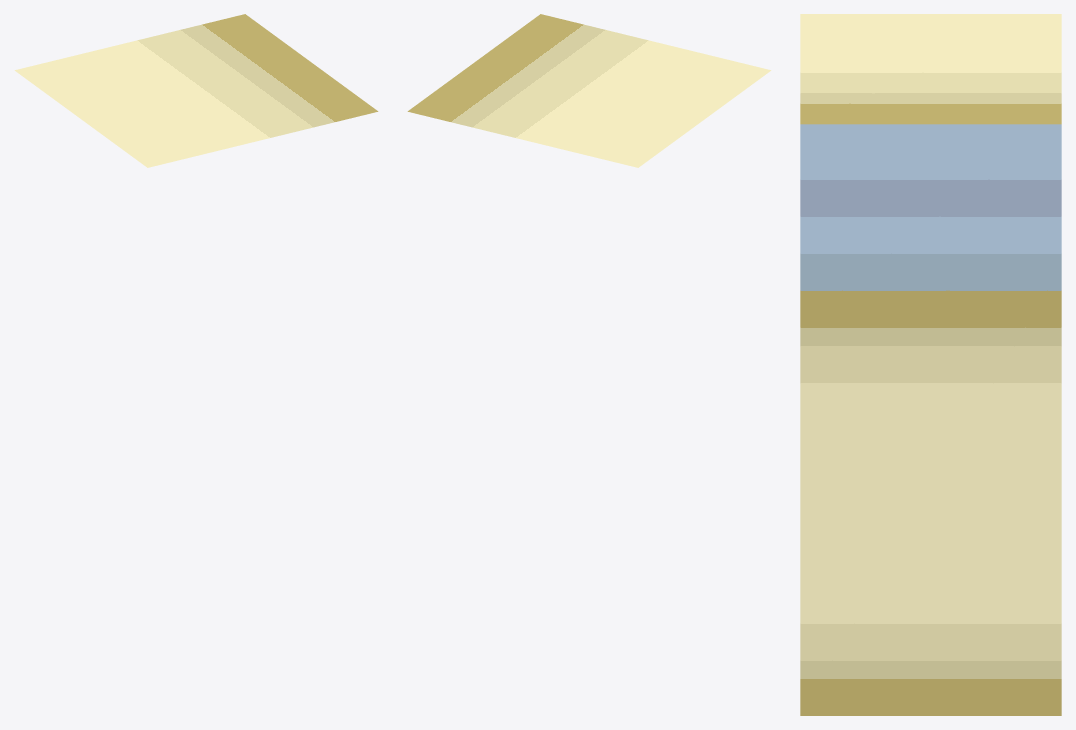
3 views of the same model, side by side, from view 1: azimuth 30°, elevation 25°; view 2: azimuth 150°, elevation 25°; view 3: azimuth 270°, elevation 25° (orthographic). The views are drawn at different scales.
Size of the model in its own units: 1 by 2.5 by 1.
1 material, 1 textured.
